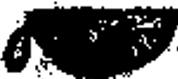Basket: (2, 3, 178, 79)
